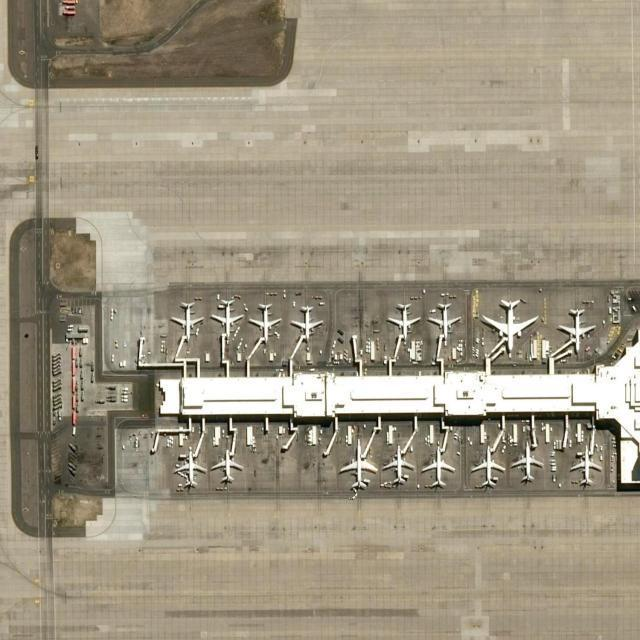Aircraft: (481, 299, 541, 354), (338, 442, 378, 492), (558, 305, 597, 355), (469, 448, 507, 490), (167, 300, 205, 342), (247, 302, 283, 342), (288, 302, 324, 342), (380, 446, 414, 488), (428, 301, 463, 340), (210, 447, 245, 486), (423, 448, 455, 490), (173, 449, 206, 489), (388, 303, 422, 341), (571, 447, 603, 487), (210, 299, 242, 339), (512, 446, 544, 484)
